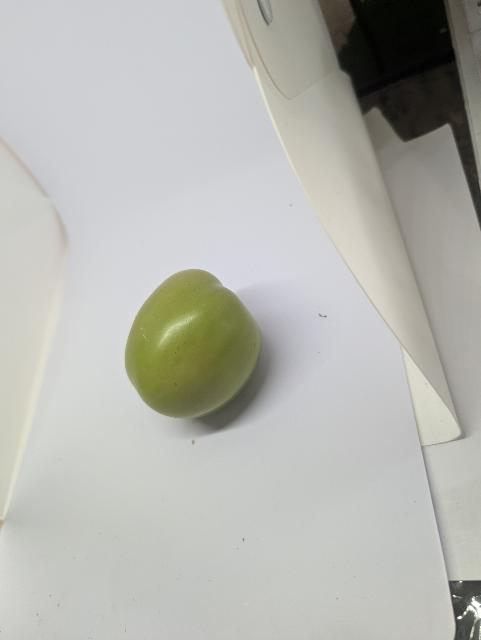green: (87, 253, 285, 429)
